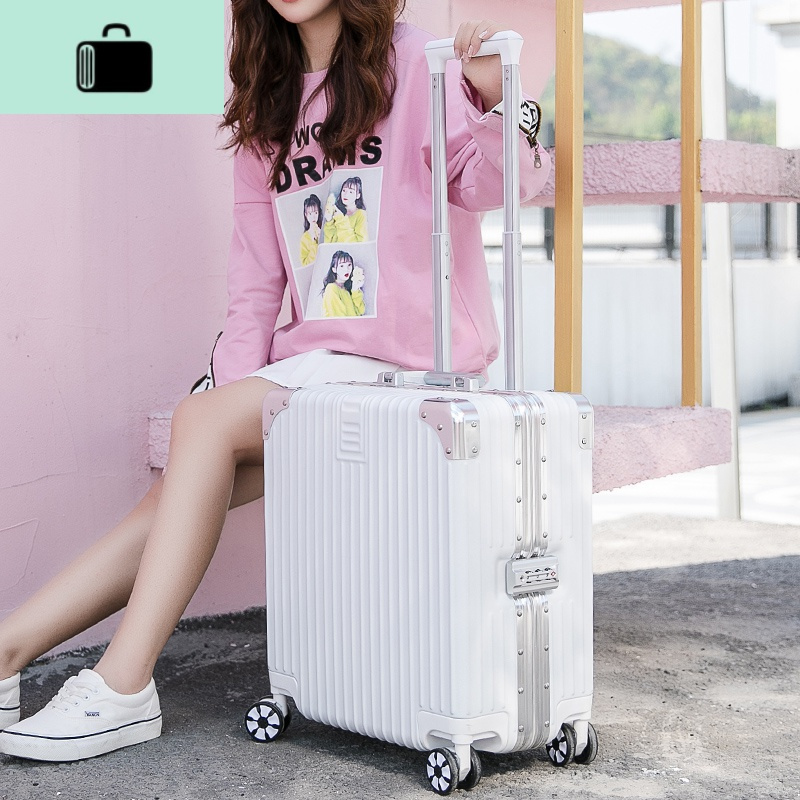box: (261, 384, 594, 755)
handle: (376, 371, 491, 393)
lock: (506, 555, 561, 596)
wheel: (425, 745, 481, 796), (545, 720, 598, 767), (244, 695, 293, 743)
